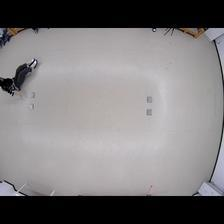fall: (1, 57, 38, 97)
